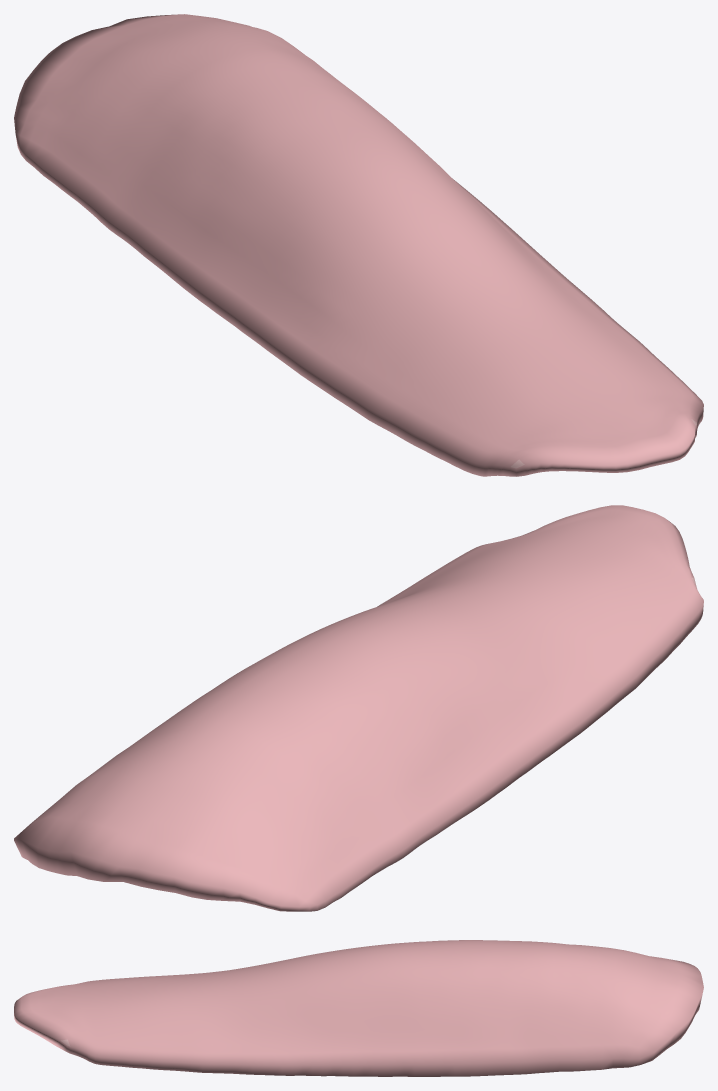
Rendered from ballerina shape nail .fbx.
3 views of the same model, one above another, from view 1: azimuth 30°, elevation 25°; view 2: azimuth 150°, elevation 25°; view 3: azimuth 270°, elevation 25° (orthographic). The views are drawn at different scales.
Visible parts, largest first — view 1: Ballerina acrylic nail; view 2: Ballerina acrylic nail; view 3: Ballerina acrylic nail.
Boxes of the visible parts, box(x1,y1,x2,y2) form: Ballerina acrylic nail: box(14, 14, 703, 476); Ballerina acrylic nail: box(14, 505, 703, 911); Ballerina acrylic nail: box(14, 940, 703, 1076).
Size of the model in its own units: 75.04 by 31.85 by 234.
1 material, 1 textured.
